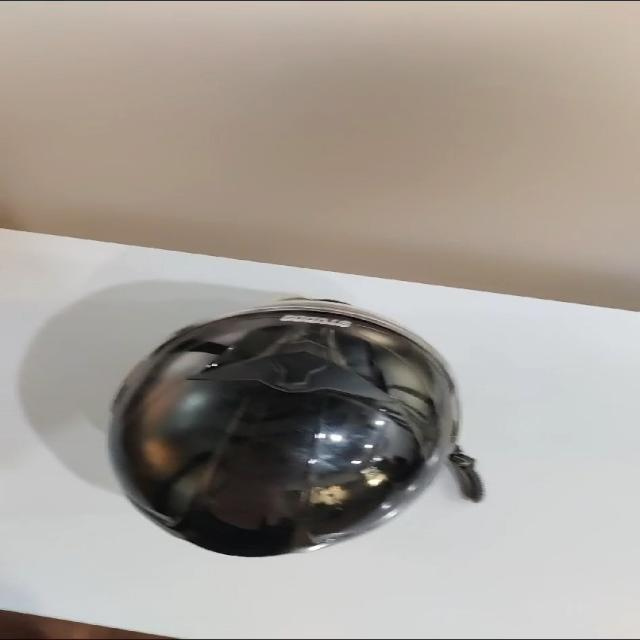helmet: (106, 292, 474, 570)
